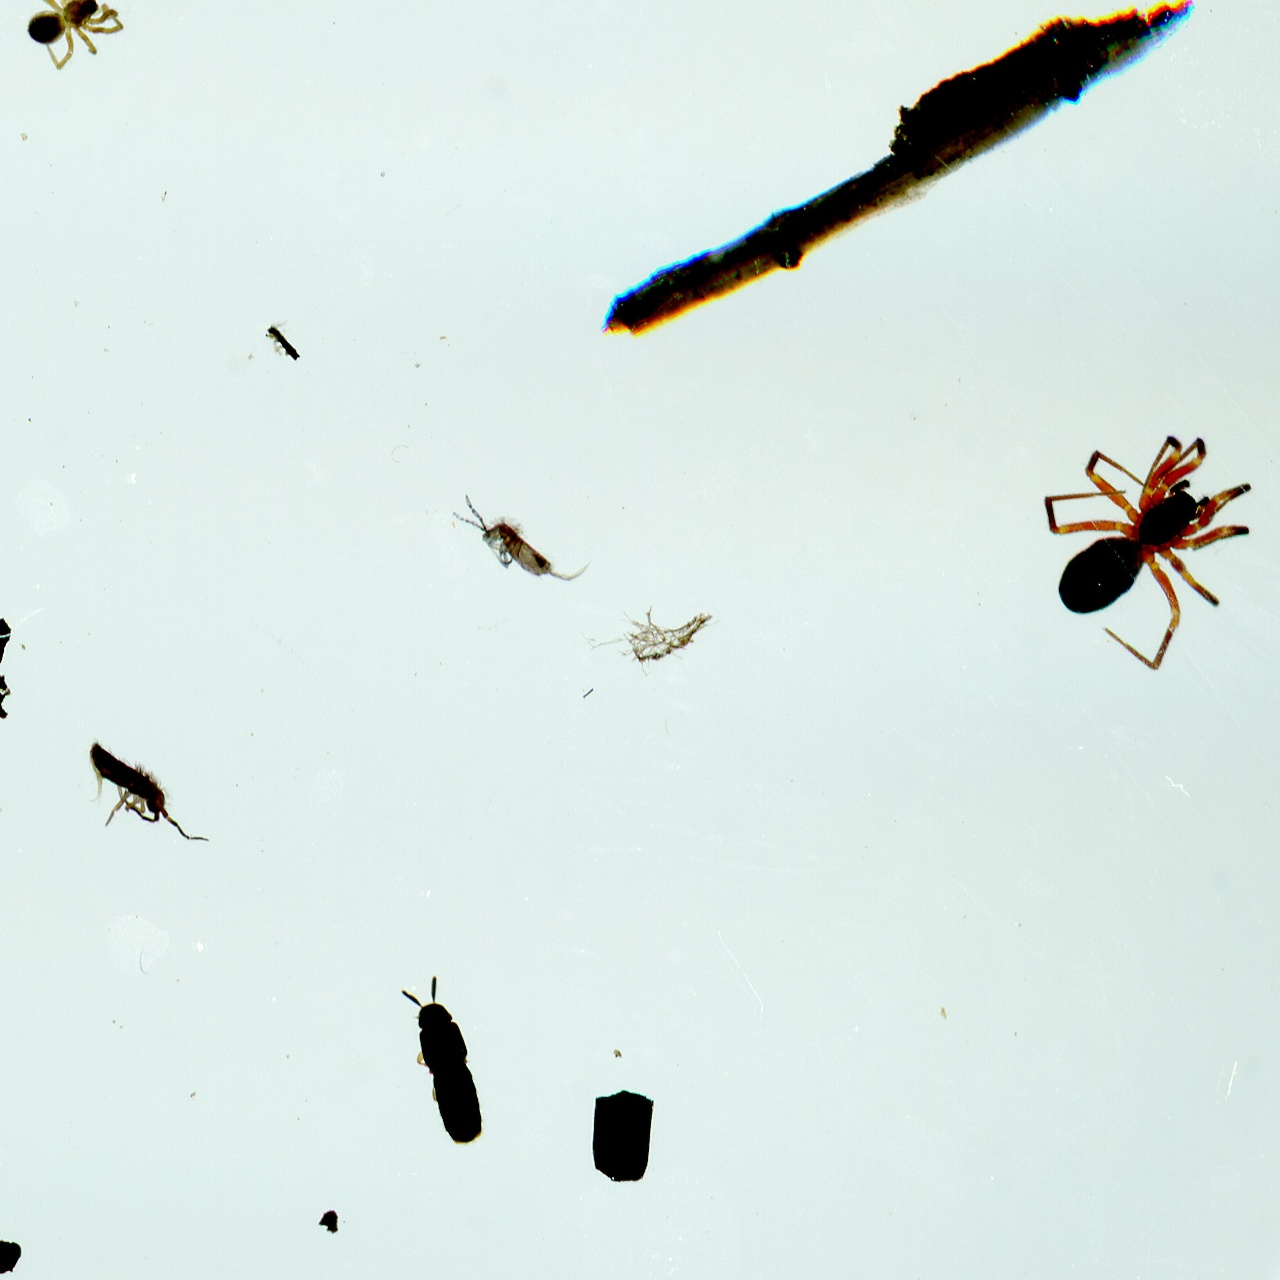arthropod: (1035, 423, 1265, 676), (393, 969, 489, 1148), (443, 488, 598, 590), (83, 735, 212, 846), (18, 0, 134, 76)
